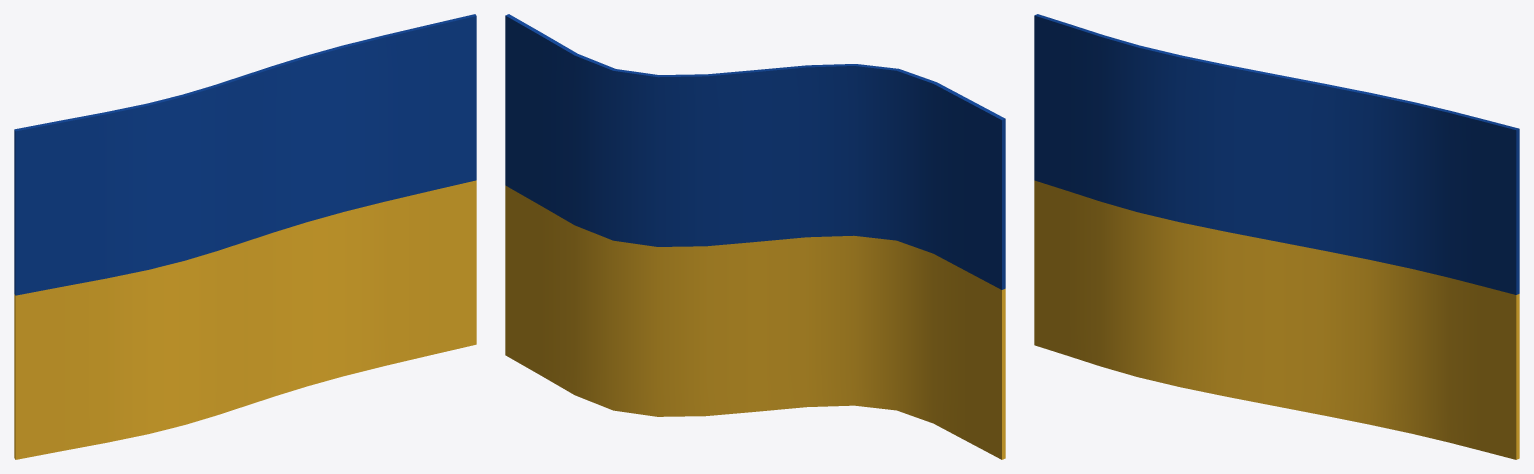
File: flag_ukraine.glb
The picture shows the model from 3 angles, left to right: view 1: azimuth 30°, elevation 25°; view 2: azimuth 150°, elevation 25°; view 3: azimuth 330°, elevation 25°; orthographic projection. The views are drawn at different scales.
Parts seen in each view (by area): view 1: flag_ukraine; view 2: flag_ukraine; view 3: flag_ukraine.
Part boxes in pixels (x1,y1,x2,y2): flag_ukraine: [14, 14, 476, 459]; flag_ukraine: [505, 14, 1005, 459]; flag_ukraine: [1034, 14, 1519, 459].
Bounding box in the file's own units: 2.18 × 1.58 × 0.3373.
1 material, 1 textured.
